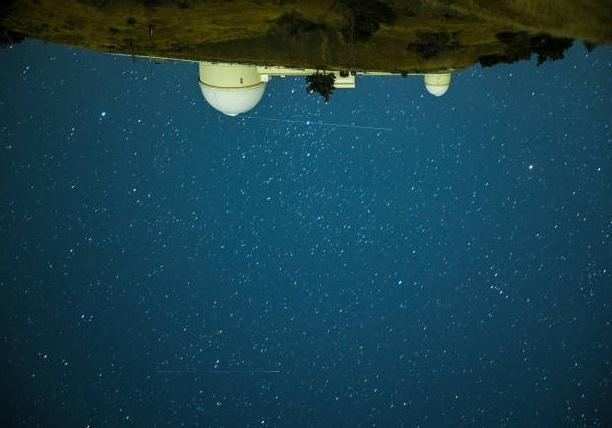meteorite: (255, 117, 405, 146), (165, 366, 290, 385)
